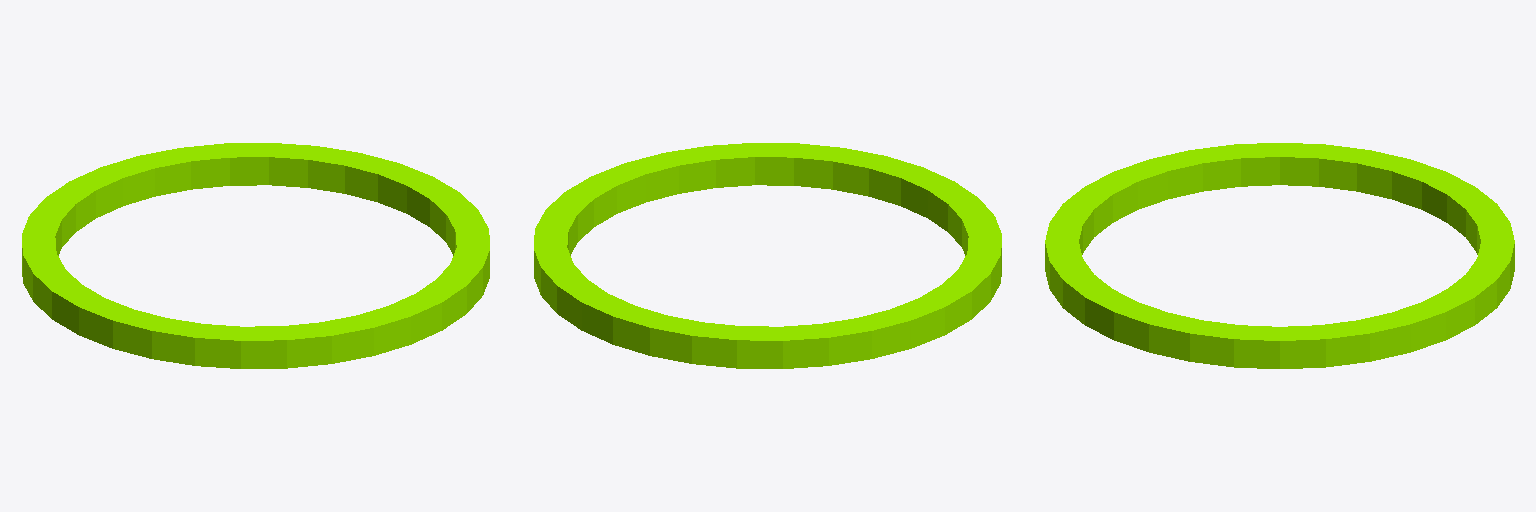
3 renders of one model, left to right at view 1: azimuth 30°, elevation 25°; view 2: azimuth 150°, elevation 25°; view 3: azimuth 270°, elevation 25°, orthographic.
Visible parts, largest first — view 1: 円柱; view 2: 円柱; view 3: 円柱.
Boxes of the visible parts, x1,y1,x2,y2 form: 円柱: [22, 143, 489, 368]; 円柱: [534, 143, 1001, 368]; 円柱: [1045, 143, 1514, 368].
Size of the model in its own units: 2.39 by 0.1588 by 2.39.
Materials: 1 (1 with a texture image).